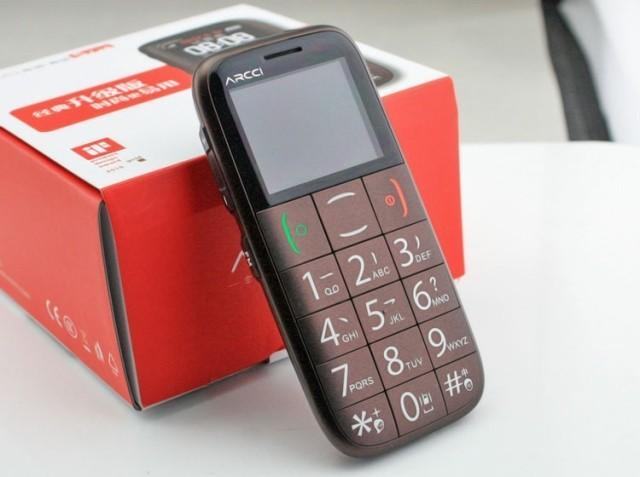phone: (193, 54, 490, 414)
